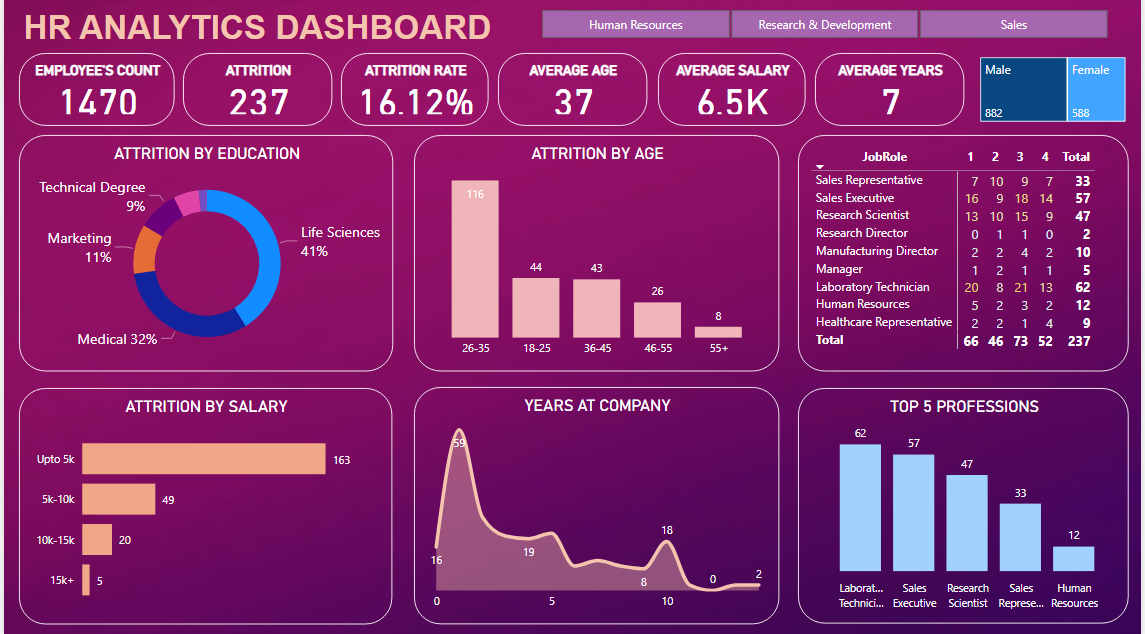

Layout of this report page (visuals, bound fields, positions):
{"tool":"powerbi","page":{"name":"Page 1","canvas":[1280,720],"ordinal":0},"visuals":[{"type":"card","title":"EMPLOYEE''S COUNT","fields":{"Values":["CountNonNull(HR_Analytics.EmpID)"]},"box":[16.6,62.7,175.4,81.9],"z":0},{"type":"card","title":"ATTRITION","fields":{"Values":["Sum(HR_Analytics.AttritionCount)"]},"box":[201,62.7,167.7,81.9],"z":1000},{"type":"card","title":"ATTRITION RATE","fields":{"Values":["HR_Analytics.AttritionRate"]},"box":[378.9,62.7,166.4,81.9],"z":2000},{"type":"card","title":"AVERAGE AGE","fields":{"Values":["Avg(HR_Analytics.Age)"]},"box":[555.5,62.7,167.7,81.9],"z":3000},{"type":"card","title":"AVERAGE SALARY","fields":{"Values":["Avg(HR_Analytics.MonthlyIncome)"]},"box":[736,62.7,166.4,81.9],"z":4000},{"type":"card","title":"AVERAGE YEARS","fields":{"Values":["Avg(HR_Analytics.YearsAtCompany)"]},"box":[912.6,62.7,167.7,81.9],"z":5000},{"type":"donutChart","title":"ATTRITION BY EDUCATION","fields":{"Y":["CountNonNull(HR_Analytics.Attrition)"],"Category":["HR_Analytics.EducationField"]},"box":[16.6,154.9,421.1,266.2],"z":6000},{"type":"columnChart","title":"ATTRITION BY AGE","fields":{"Category":["HR_Analytics.AgeGroup"],"Y":["Sum(HR_Analytics.AttritionCount)"]},"box":[461.2,155.2,410.6,265.5],"z":7000},{"type":"pivotTable","fields":{"Rows":["HR_Analytics.JobRole"],"Columns":["HR_Analytics.JobSatisfaction"],"Values":["Sum(HR_Analytics.AttritionCount)"]},"box":[893.4,154.9,372.5,266.2],"z":8000},{"type":"barChart","title":"ATTRITION BY SALARY","fields":{"Category":["HR_Analytics.SalarySlab"],"Y":["Sum(HR_Analytics.AttritionCount)"]},"box":[16.6,440.3,419.8,266.2],"z":9000},{"type":"columnChart","title":"TOP 5 PROFESSIONS","fields":{"Category":["HR_Analytics.JobRole"],"Y":["Sum(HR_Analytics.AttritionCount)"]},"box":[893.4,440.3,372.5,265],"z":10000},{"type":"areaChart","title":"YEARS AT COMPANY","fields":{"Category":["HR_Analytics.YearsAtCompany"],"Y":["Sum(HR_Analytics.AttritionCount)"]},"box":[461.2,438.8,410.6,266.6],"z":11000},{"type":"treemap","fields":{"Group":["HR_Analytics.Gender"],"Values":["CountNonNull(HR_Analytics.Gender)"]},"box":[1093.1,62.7,172.8,81.9],"z":12000},{"type":"slicer","fields":{"Values":["HR_Analytics.Department"]},"box":[579.8,7.7,686.1,44.8],"z":12001},{"type":"textbox","box":[16.6,7.7,563.2,55],"z":12002}]}

Visuals, with their boxes in screenshot pixels (x1, y1, x2, y2), scaled from the page's 1280x720 canvas onto the 1145x634 screenshot:
"EMPLOYEE''S COUNT" card: [15, 55, 172, 127]
"ATTRITION" card: [180, 55, 330, 127]
"ATTRITION RATE" card: [339, 55, 488, 127]
"AVERAGE AGE" card: [497, 55, 647, 127]
"AVERAGE SALARY" card: [658, 55, 807, 127]
"AVERAGE YEARS" card: [816, 55, 966, 127]
"ATTRITION BY EDUCATION" donutChart: [15, 136, 392, 371]
"ATTRITION BY AGE" columnChart: [413, 137, 780, 370]
pivotTable - HR_Analytics.JobRole x HR_Analytics.JobSatisfaction: [799, 136, 1132, 371]
"ATTRITION BY SALARY" barChart: [15, 388, 390, 622]
"TOP 5 PROFESSIONS" columnChart: [799, 388, 1132, 621]
"YEARS AT COMPANY" areaChart: [413, 386, 780, 621]
treemap - HR_Analytics.Gender x CountNonNull(HR_Analytics.Gender): [978, 55, 1132, 127]
slicer - HR_Analytics.Department: [519, 7, 1132, 46]
textbox: [15, 7, 519, 55]
